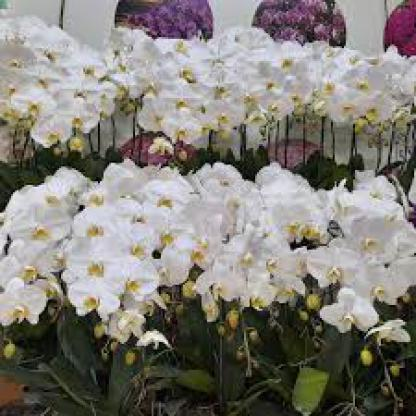ANGGREK: (25, 141, 410, 371)
